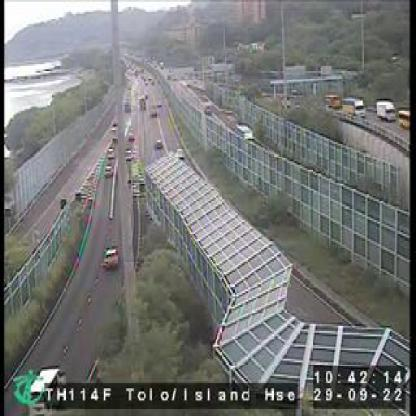Bus: (322, 94, 340, 109)
Car: (102, 246, 119, 272), (101, 161, 112, 182), (126, 128, 137, 142), (174, 148, 185, 160), (124, 149, 132, 160), (105, 146, 112, 158), (153, 138, 160, 146)
Truck: (341, 93, 364, 119), (372, 97, 394, 120)
